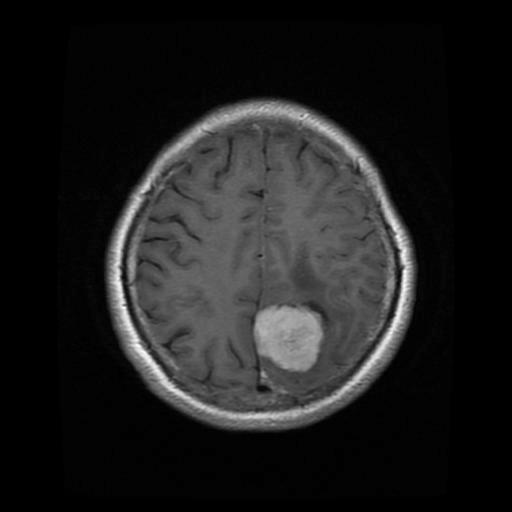Tumour-Pituitary: (234, 288, 341, 388)
